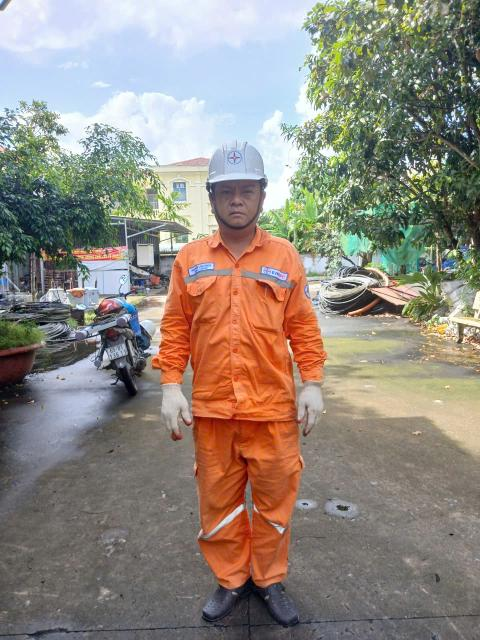gloves: (284, 374, 339, 438), (157, 379, 198, 448)
helmet: (203, 115, 274, 195)
shoes: (248, 563, 308, 628), (194, 557, 249, 623)
